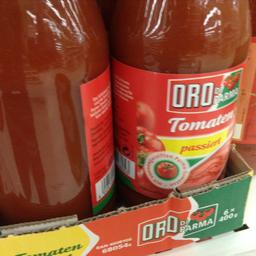tomato_sauce: (111, 0, 249, 200), (0, 0, 114, 222)
